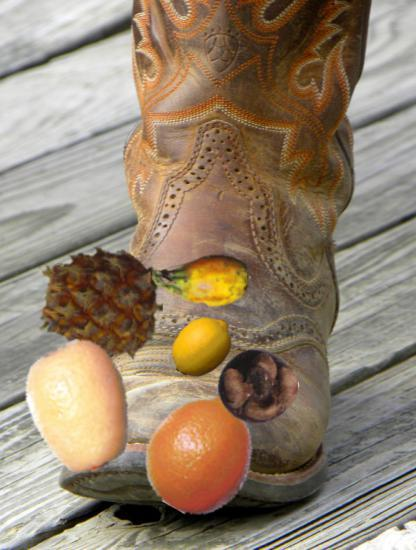Cactus: (148, 229, 252, 333)
Kumquats: (15, 341, 146, 472)
Lemon: (169, 313, 236, 380)
Mangostan: (217, 346, 300, 429)
Pineapple: (38, 241, 163, 366)
Tangelo: (141, 392, 264, 515)
